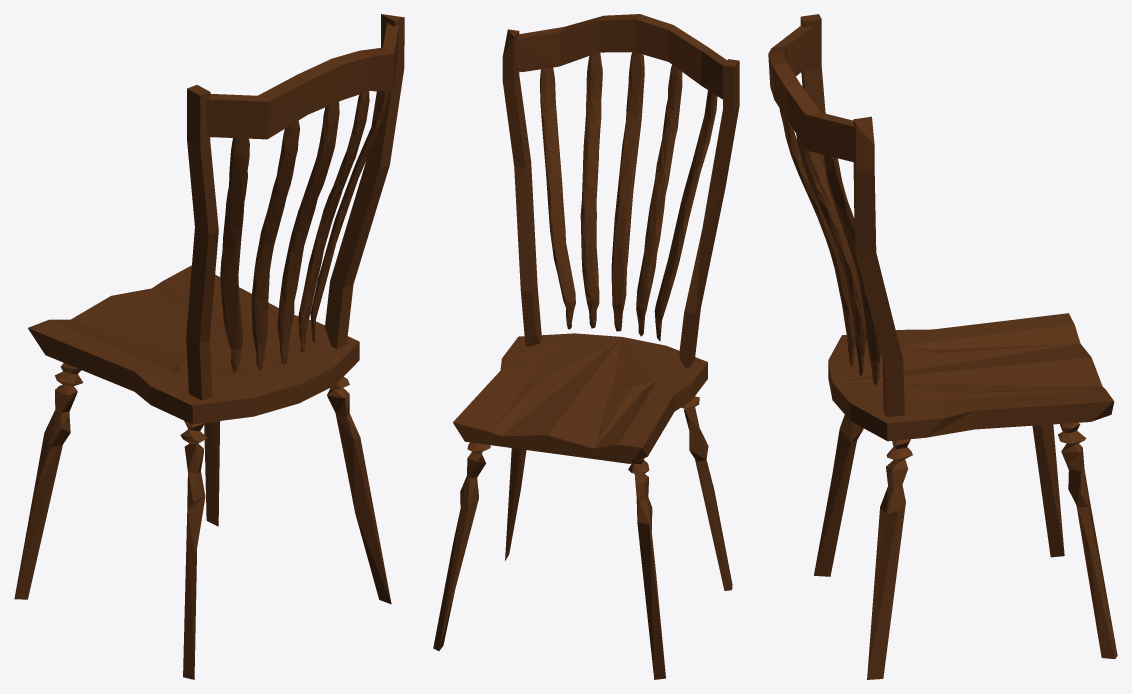
File: chairs.FBX
3 renders of one model, left to right at view 1: azimuth 30°, elevation 25°; view 2: azimuth 150°, elevation 25°; view 3: azimuth 270°, elevation 25°, orthographic. The views are drawn at different scales.
Visible parts, largest first — view 1: Plane, Cube.002, Circle.002; view 2: Plane, Cube.002, Circle.002; view 3: Plane, Circle.002, Cube.002.
Part boxes in pixels (x1,y1,x2,y2): Plane: (28,14,404,424); Cube.002: (220,91,389,372); Circle.002: (14,363,391,679); Plane: (453,14,739,463); Cube.002: (540,52,717,341); Circle.002: (433,396,732,679); Plane: (768,14,1114,441); Circle.002: (814,415,1117,679); Cube.002: (779,108,880,384).
Bounding box in the file's own units: 74.06 × 150 × 83.04.
